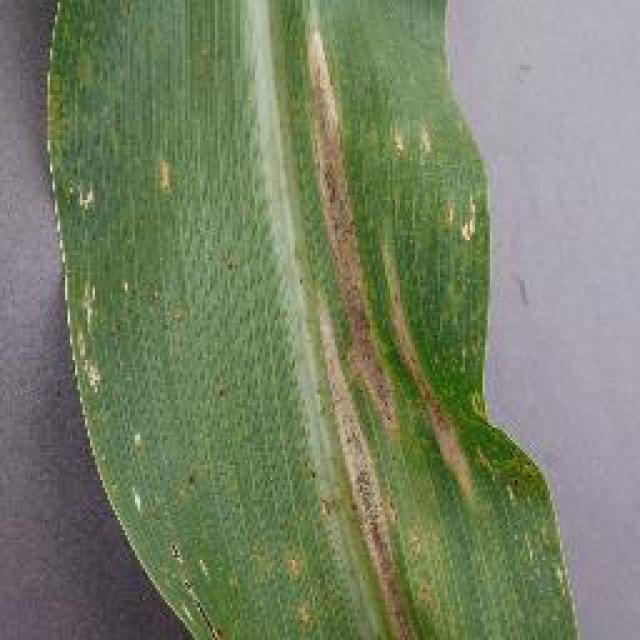Corn___Northern_Leaf_Blight: (28, 0, 600, 640)
